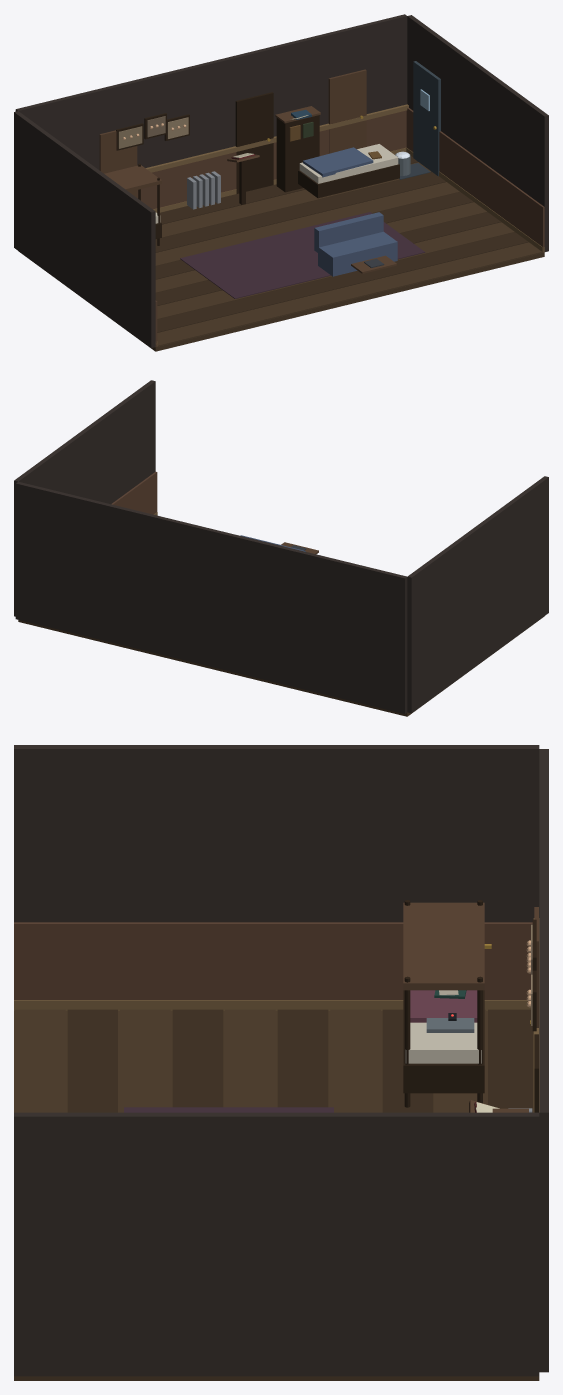
File: dorm.glb
3 renders of one model, top to bottom at view 1: azimuth 30°, elevation 25°; view 2: azimuth 150°, elevation 25°; view 3: azimuth 270°, elevation 25°, orthographic. The views are drawn at different scales.
Visible parts, largest first — view 1: WallBack, WallLeft, WallRight, DoRug, Plank0, Plank1, BandRight, BandBack, Plank7, Plank6, CabinDoor1, CabinDoor2 (+19 smaller); view 2: WallBack, WallLeft, WallRight, Floor, BandRight; view 3: WallRight, WallLeft, BandLeft, BunkTop, WallBack, Plank0, Plank1, Plank6, Plank3, Plank5, Plank2, Plank4 (+9 smaller).
Boxes of the visible parts, x1,y1,x2,y2 form: WallBack: (15,14,407,170); WallLeft: (14,111,155,348); WallRight: (407,15,548,251); DoRug: (180,212,425,298); Plank0: (157,242,542,346); Plank1: (157,232,528,332); BandRight: (406,107,544,252); BandBack: (137,110,406,209); Plank7: (155,172,445,252); Plank6: (155,182,459,266); CabinDoor1: (235,92,273,193); CabinDoor2: (328,69,366,153); WallBack: (15,481,407,713); WallLeft: (407,476,548,713); WallRight: (14,380,155,616); Floor: (18,616,544,716); BandRight: (111,471,157,514); WallRight: (14,1112,539,1376); WallLeft: (14,745,539,922); BandLeft: (14,922,532,999); BunkTop: (403,902,484,990); WallBack: (539,749,548,1372); Plank0: (15,1009,65,1112); Plank1: (67,1009,117,1112); Plank6: (330,1009,380,1112); Plank3: (172,1009,223,1107); Plank5: (277,1009,328,1107); Plank2: (120,1009,170,1112); Plank4: (225,1009,275,1107).
Size of the model in its own units: 9.2 by 3.1 by 5.6.
